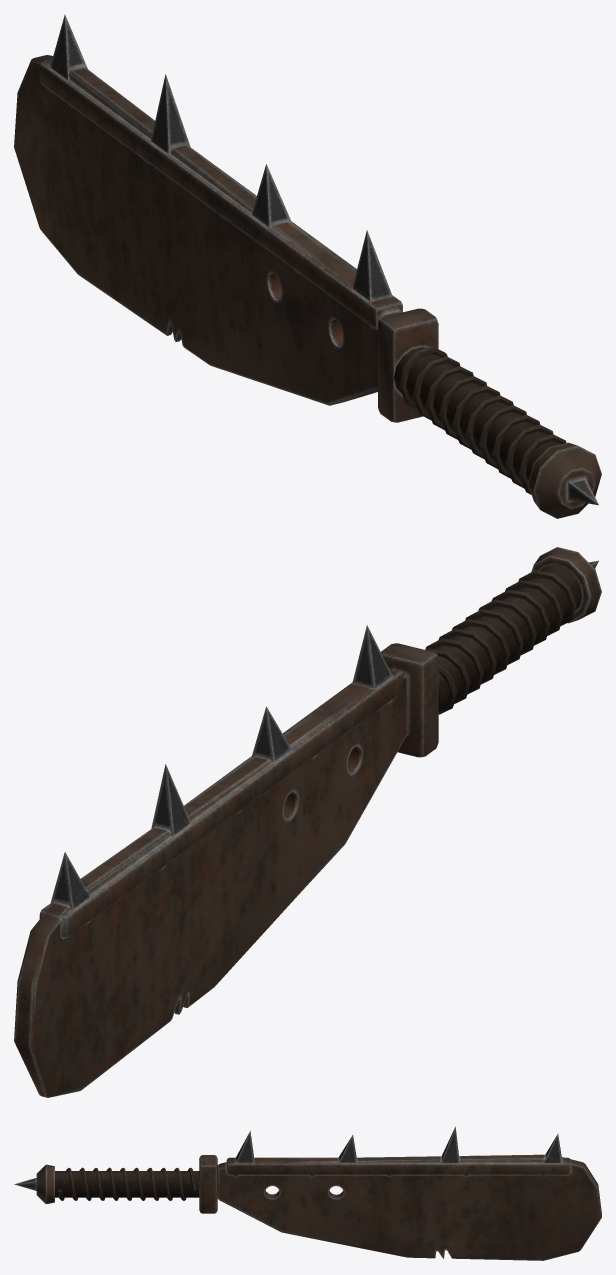
Rendered from tusker_cleaver.glb.
3 views of the same model, one above another, from view 1: azimuth 30°, elevation 25°; view 2: azimuth 150°, elevation 25°; view 3: azimuth 270°, elevation 25° (orthographic). The views are drawn at different scales.
Parts seen in each view (by area): view 1: tusker_cleaver; view 2: tusker_cleaver; view 3: tusker_cleaver.
Part boxes in pixels (left/top/right/bottom): tusker_cleaver: left=14, top=14, right=601, bottom=518; tusker_cleaver: left=14, top=547, right=601, bottom=1097; tusker_cleaver: left=14, top=1126, right=601, bottom=1260.
Size of the model in its own units: 0.044 by 0.1624 by 0.644.
Materials: 1 (1 with a texture image).
